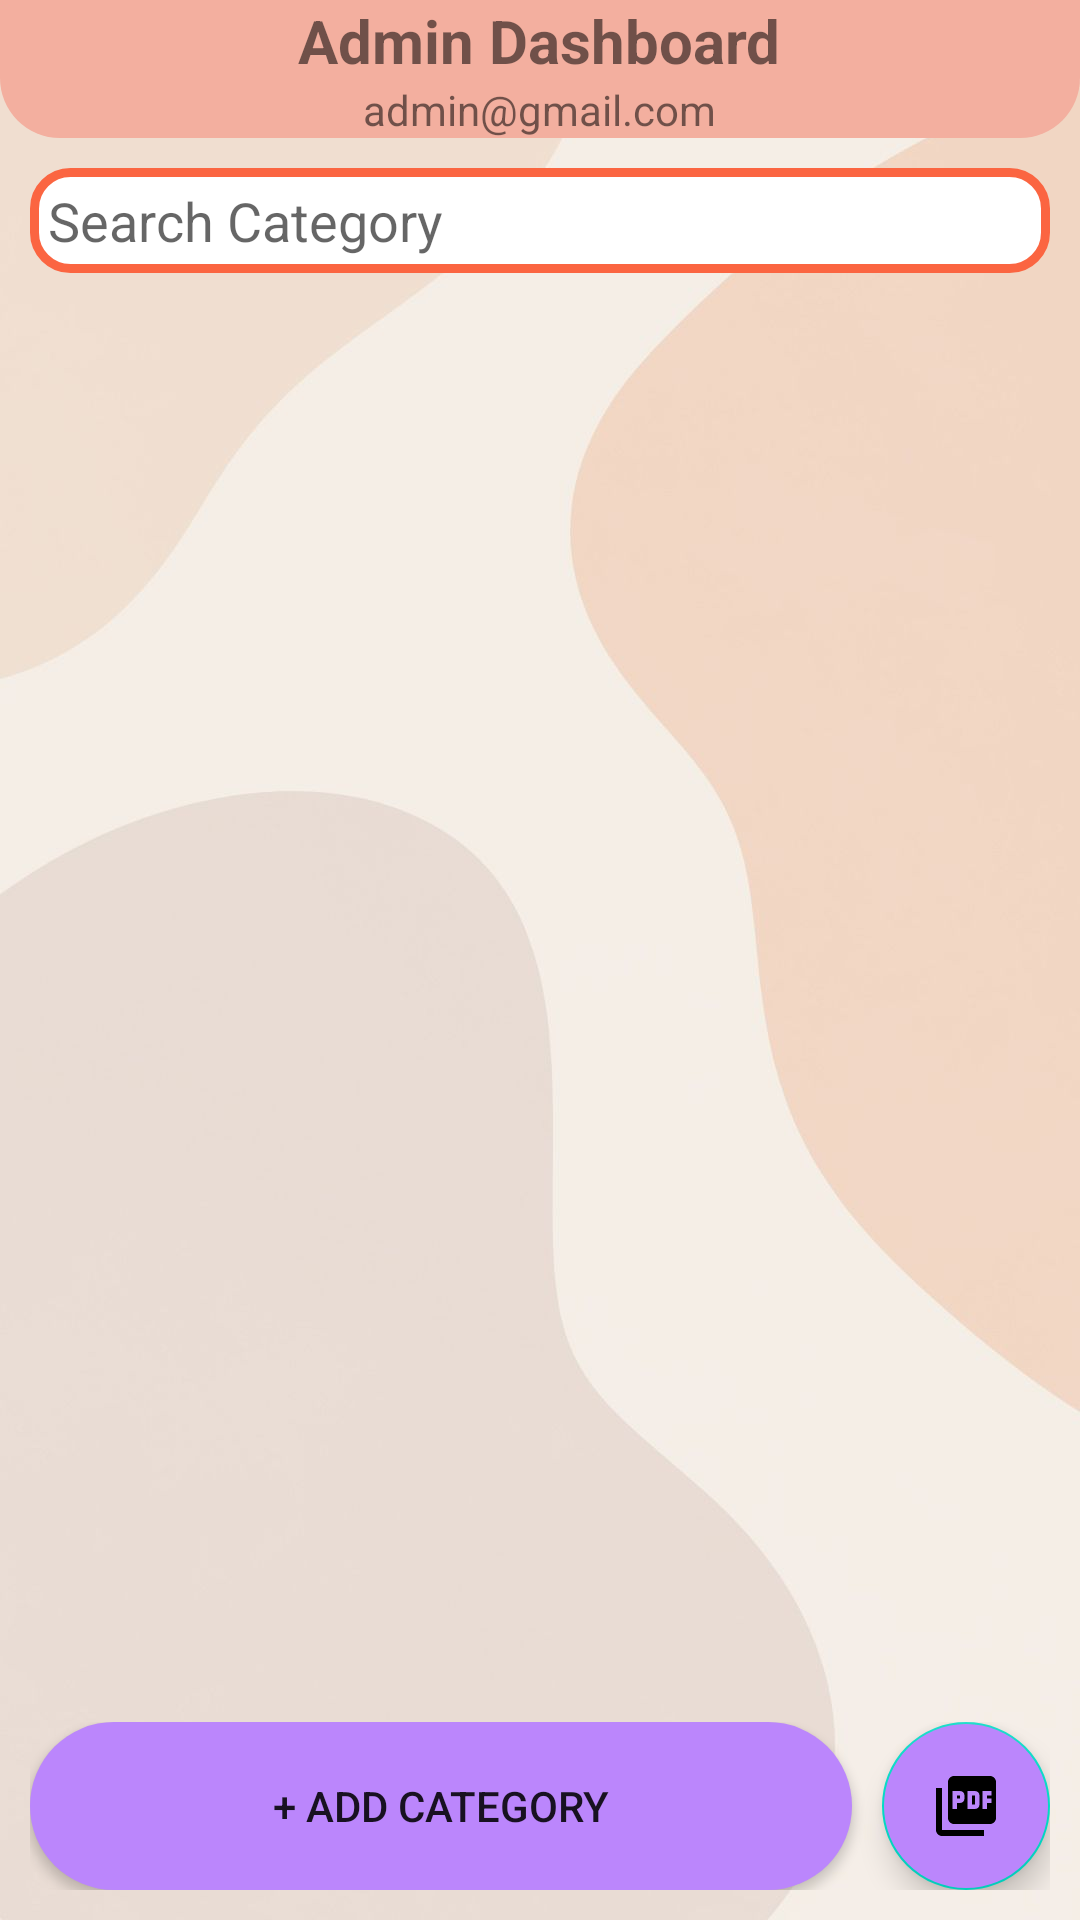

Where icons sit on this 1080×1920 app screen, as Rect(x1, y1, x2, y2):
picture as pdf: Rect(882, 1722, 1050, 1890)
